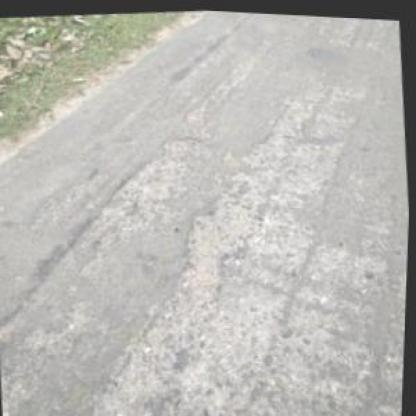pothole: (97, 126, 214, 223), (174, 189, 268, 294)
